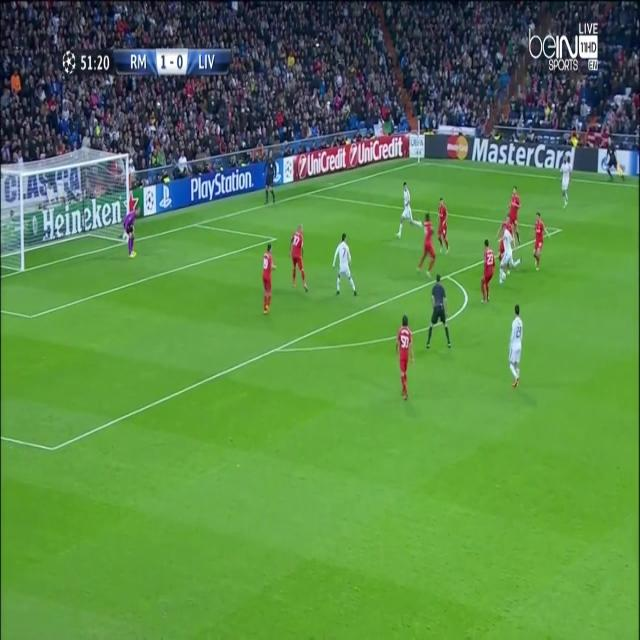Ball: (502, 270, 508, 284)
Goalkeeper: (121, 203, 141, 261)
Player: (393, 180, 423, 241), (396, 313, 415, 403), (332, 232, 357, 298), (498, 225, 522, 287), (508, 304, 525, 389), (289, 222, 309, 294), (415, 213, 436, 278), (479, 237, 495, 308), (532, 212, 551, 270), (262, 243, 277, 316), (435, 197, 453, 256), (558, 154, 572, 213), (509, 186, 523, 242)
Referee: (423, 272, 452, 350), (604, 136, 624, 185), (262, 151, 278, 206)
